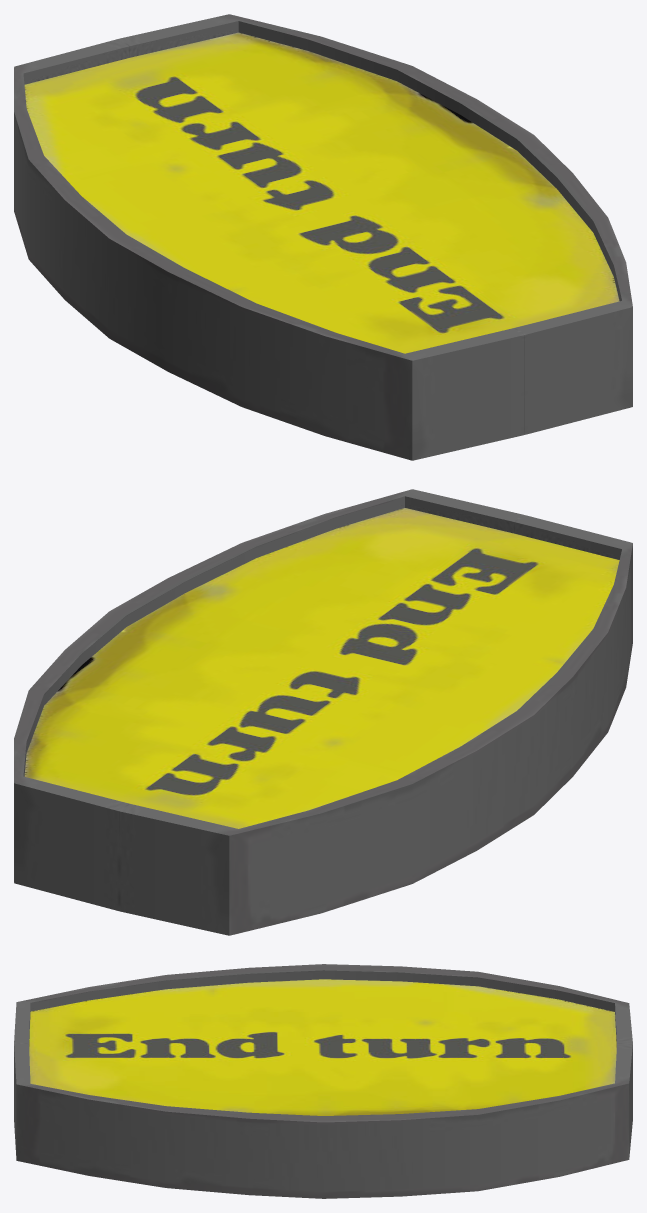
File: end turn.fbx
3 views of the same model, one above another, from view 1: azimuth 30°, elevation 25°; view 2: azimuth 150°, elevation 25°; view 3: azimuth 270°, elevation 25° (orthographic). The views are drawn at different scales.
Parts seen in each view (by area): view 1: pCube2; view 2: pCube2; view 3: pCube2.
Part boxes in pixels (x1,y1,x2,y2): pCube2: [14, 14, 632, 460]; pCube2: [14, 489, 632, 935]; pCube2: [14, 964, 632, 1198].
Size of the model in its own units: 1.23 by 0.2762 by 2.03.
